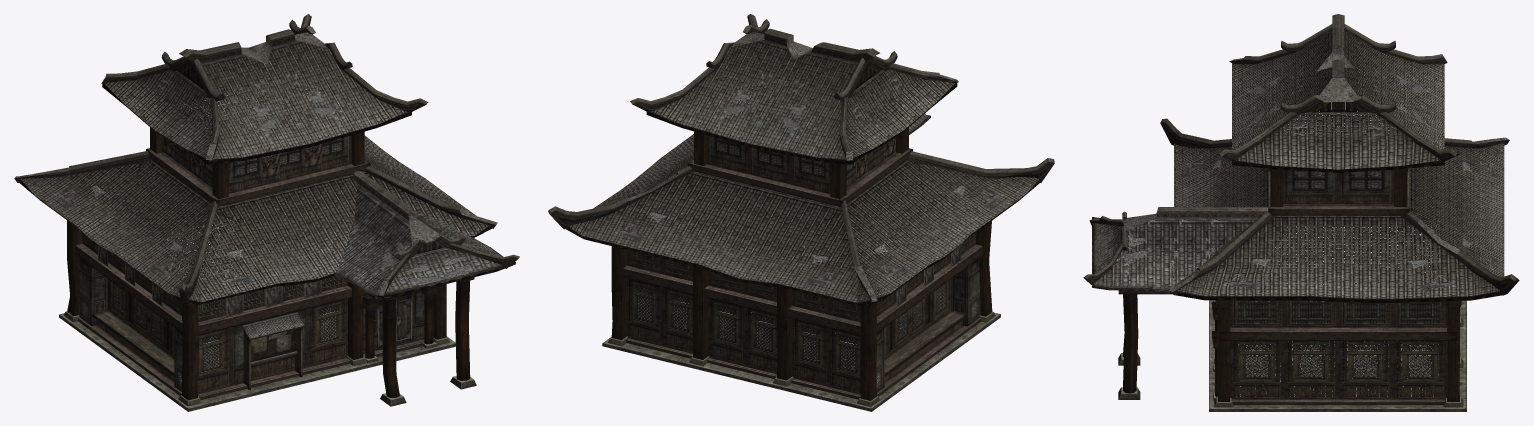
Rendered from ep-011-workhouse.fbx.
3 renders of one model, left to right at view 1: azimuth 30°, elevation 25°; view 2: azimuth 150°, elevation 25°; view 3: azimuth 270°, elevation 25°, orthographic.
Visible parts, largest first — view 1: ep-011-workhouse-02; view 2: ep-011-workhouse-02; view 3: ep-011-workhouse-02.
Part boxes in pixels (bbox=[...]): ep-011-workhouse-02: bbox=[14, 14, 519, 411]; ep-011-workhouse-02: bbox=[548, 14, 1054, 411]; ep-011-workhouse-02: bbox=[1083, 14, 1519, 411].
Bounding box in the file's own units: 18.57 × 16.08 × 21.3.
